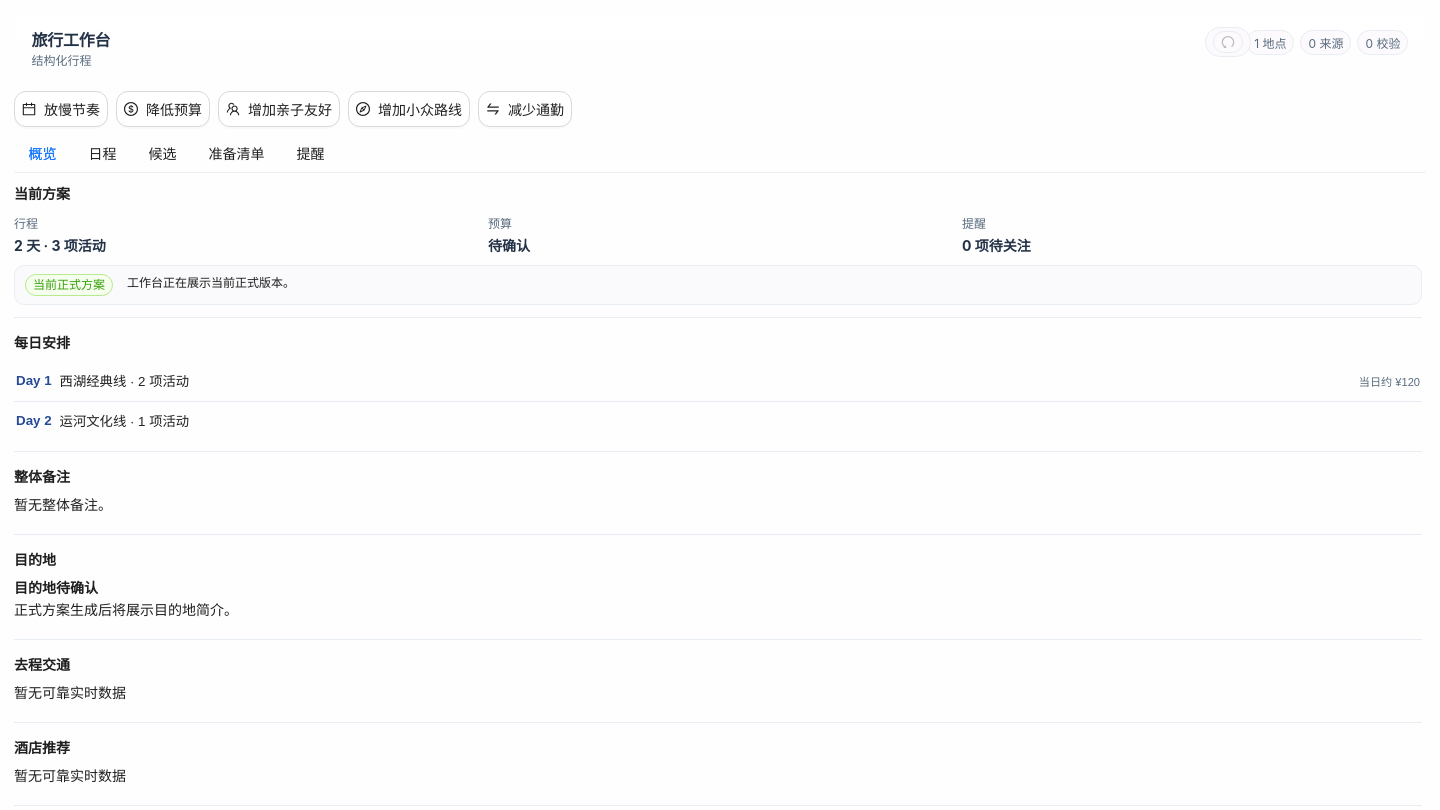
Test: TripWorkspace › only displays route cost when the route is live-confirmed
Step 1. Click the tab "日程" → (102, 154), box [88, 143, 116, 165]
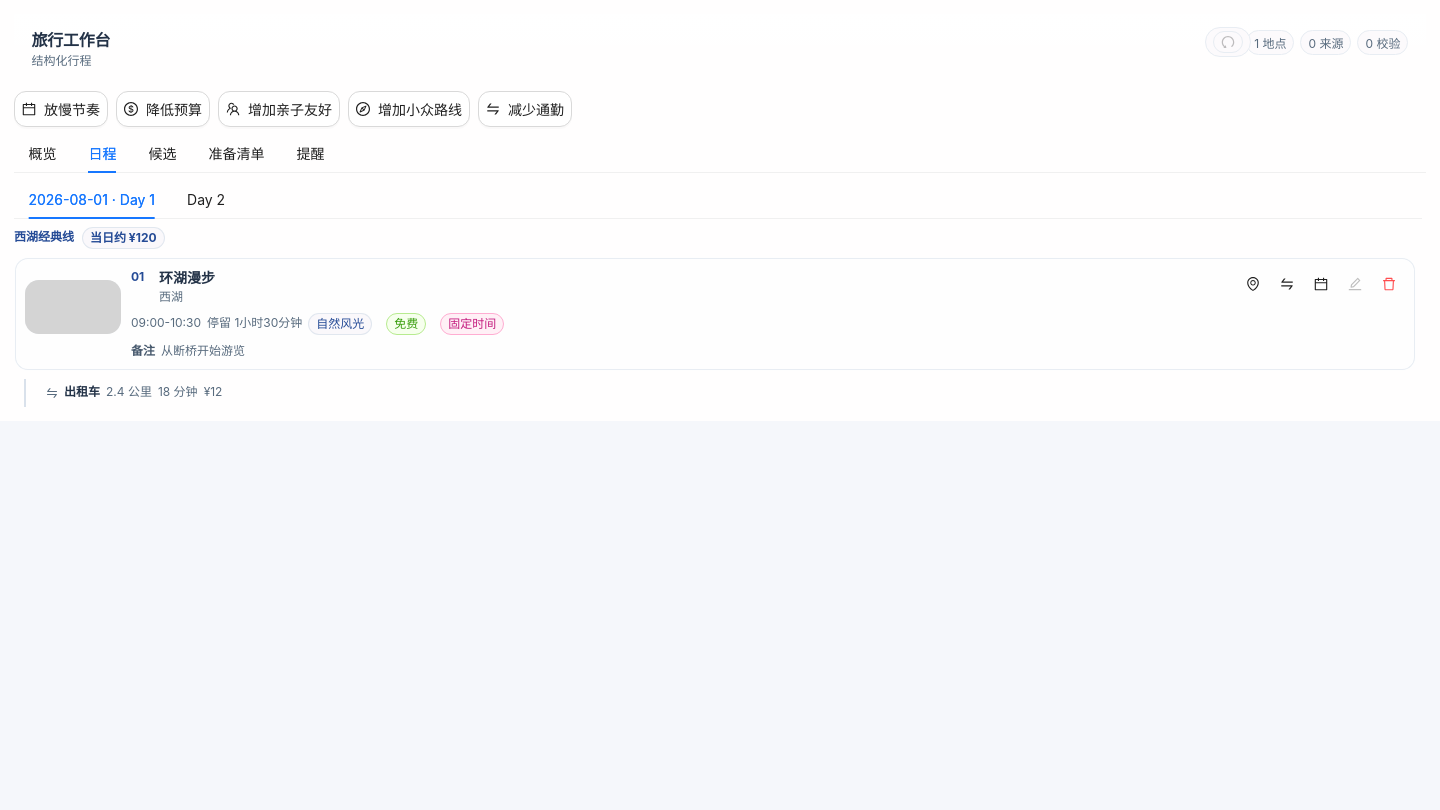
Check: the element named "前往下一站：出租车" shows "¥12", box [204, 384, 222, 399]
